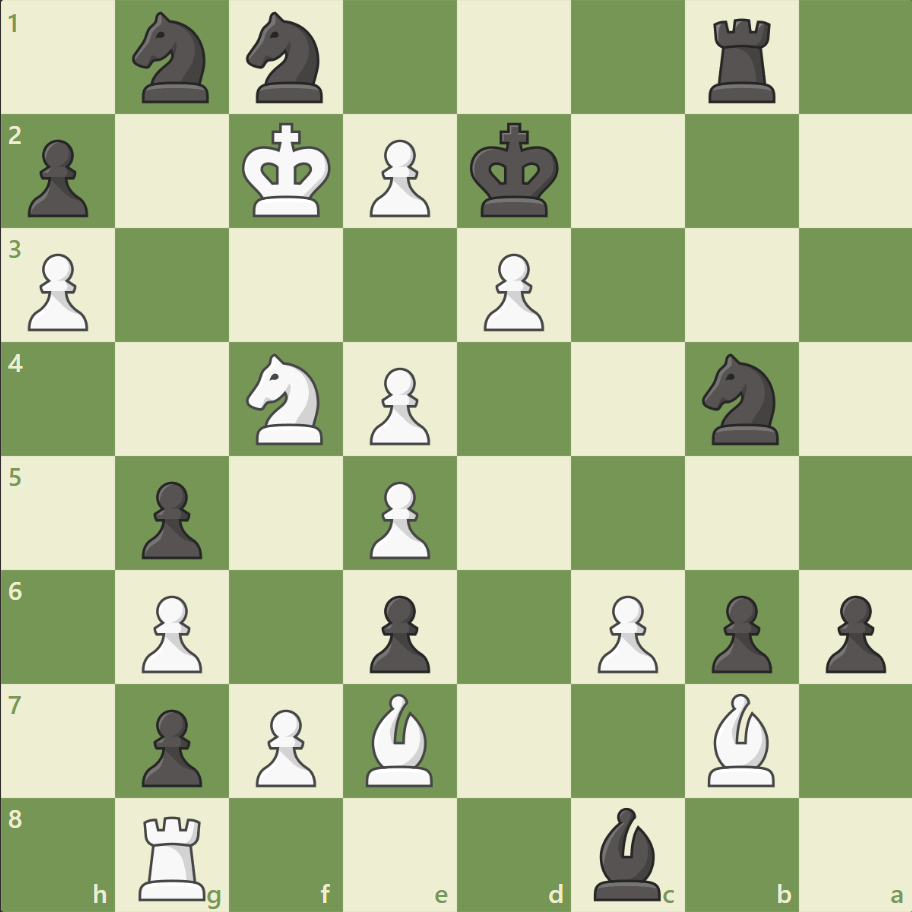B: (698, 687, 782, 790), (358, 687, 442, 790)
K: (238, 117, 338, 225)
N: (238, 348, 335, 450)
P: (247, 700, 322, 791), (133, 586, 208, 677), (474, 246, 549, 337), (20, 246, 95, 337), (588, 586, 662, 677), (361, 473, 435, 564), (361, 359, 435, 450), (361, 132, 435, 223)
R: (133, 806, 215, 904)
b: (585, 801, 669, 904)
k: (465, 117, 565, 225)
n: (124, 7, 222, 110), (238, 7, 335, 110), (692, 348, 789, 450)
p: (133, 700, 208, 791), (701, 586, 776, 677), (133, 473, 208, 564), (20, 132, 95, 223), (815, 586, 889, 677), (361, 586, 435, 677)
r: (700, 12, 783, 109)
